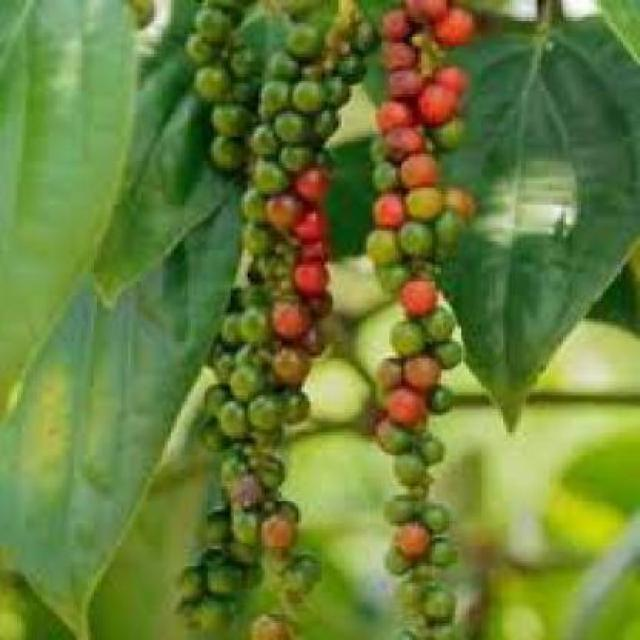RIPE: (359, 3, 486, 435), (274, 160, 335, 402)
